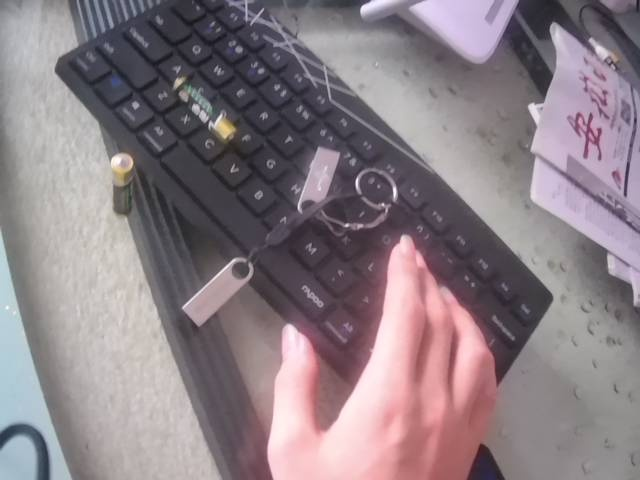U-disk: (291, 144, 405, 229), (176, 251, 263, 330)
battery: (164, 73, 241, 146), (107, 151, 140, 222)
